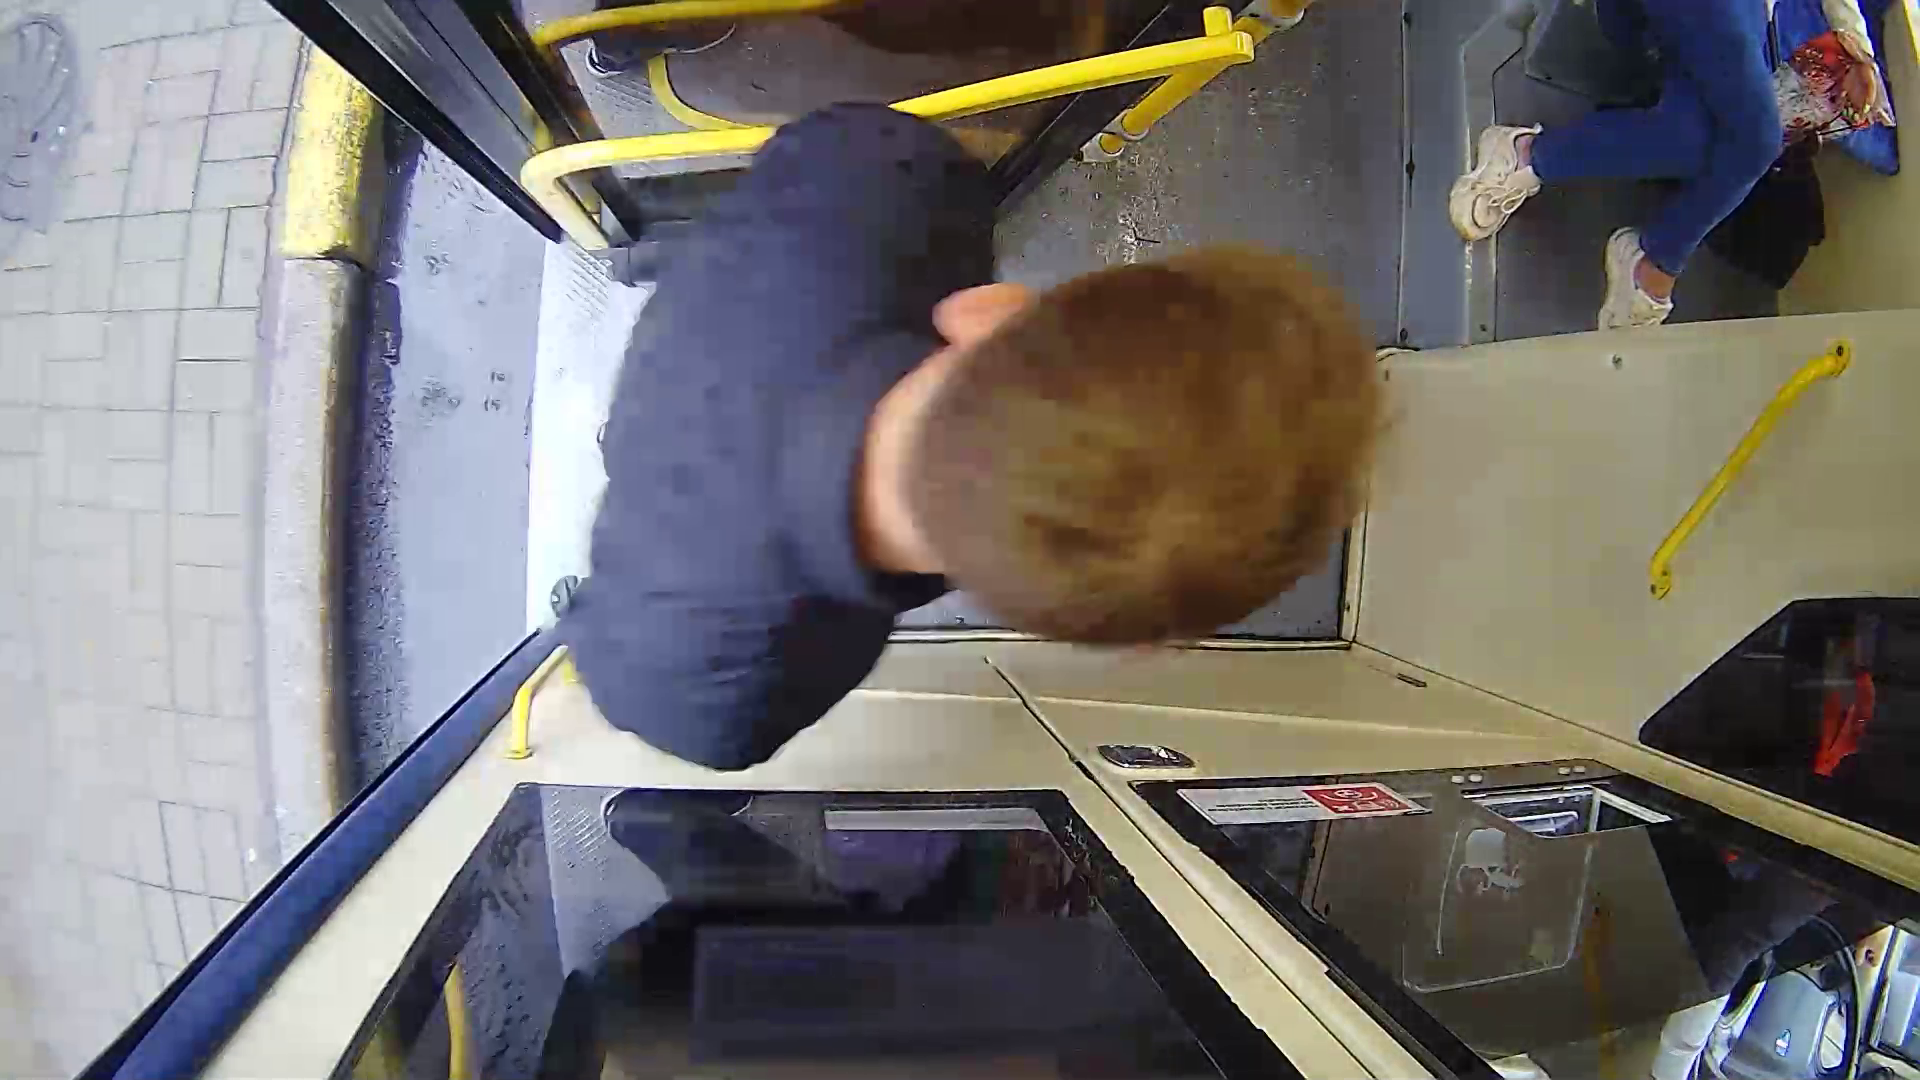person: (600, 149, 1452, 782)
